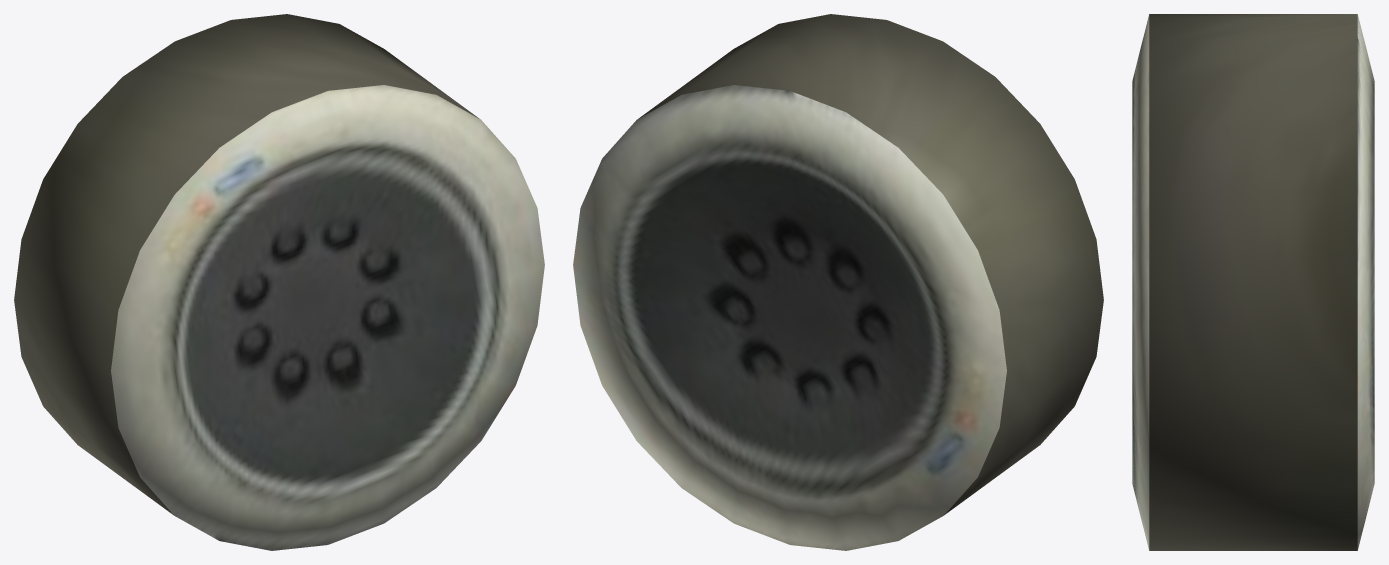
Rendered from load_wheel.glb.
3 views of the same model, side by side, from view 1: azimuth 30°, elevation 25°; view 2: azimuth 150°, elevation 25°; view 3: azimuth 270°, elevation 25° (orthographic). The views are drawn at different scales.
Visible parts, largest first — view 1: load_wheel.001; view 2: load_wheel.001; view 3: load_wheel.001.
Part boxes in pixels (left/top/right/bottom): load_wheel.001: left=14, top=14, right=544, bottom=550; load_wheel.001: left=573, top=14, right=1103, bottom=550; load_wheel.001: left=1132, top=14, right=1374, bottom=550.
Size of the model in its own units: 0.4 by 0.4 by 0.18.
1 material, 1 textured.
